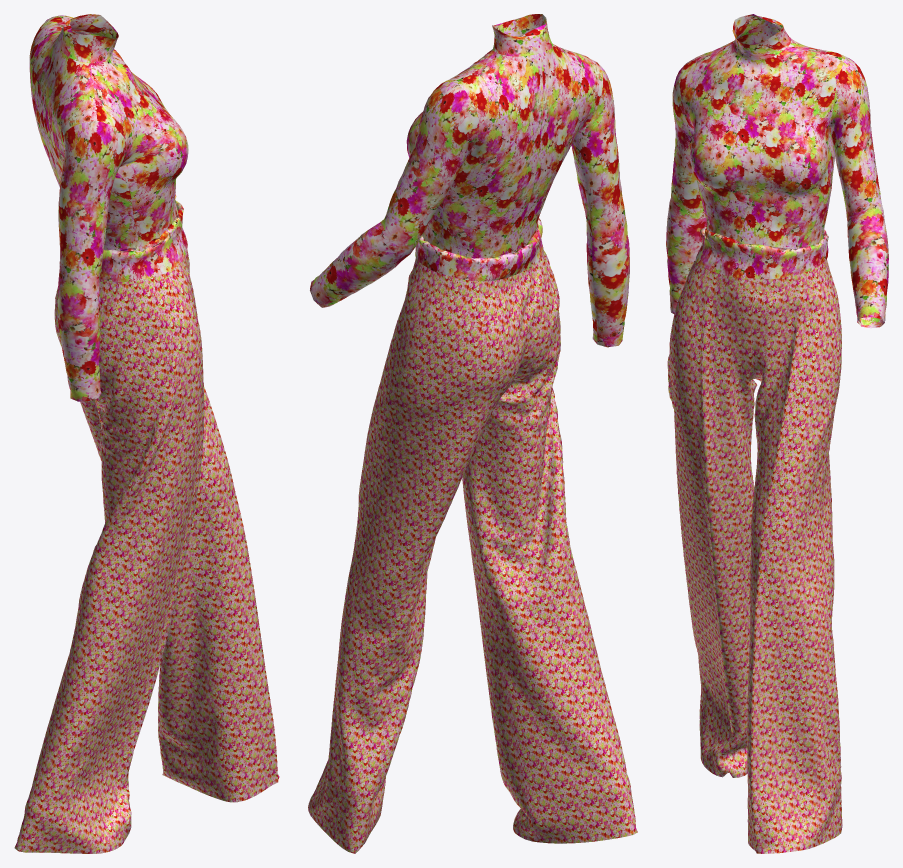
File: DA_HighNeck+WidePants_0000150.obj
The picture shows the model from 3 angles, left to right: view 1: azimuth 30°, elevation 25°; view 2: azimuth 150°, elevation 25°; view 3: azimuth 270°, elevation 25°; orthographic projection. The views are drawn at different scales.
Size of the model in its own units: 0.6003 by 1.62 by 0.4353.
